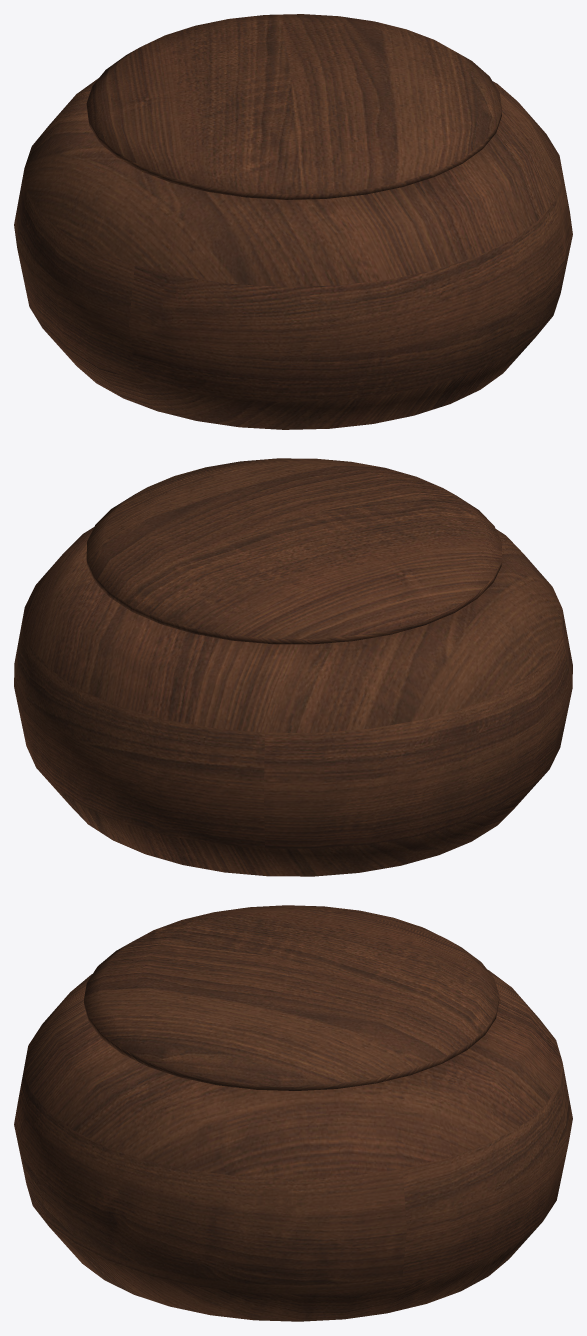
The model's file is bowl_closed.gltf.
The picture shows the model from 3 angles, top to bottom: view 1: azimuth 30°, elevation 25°; view 2: azimuth 150°, elevation 25°; view 3: azimuth 270°, elevation 25°; orthographic projection.
Visible parts, largest first — view 1: Cylinder.004; view 2: Cylinder.004; view 3: Cylinder.004.
Part boxes in pixels (x1,y1,x2,y2): Cylinder.004: [14, 14, 572, 429]; Cylinder.004: [14, 458, 572, 876]; Cylinder.004: [14, 905, 572, 1321].
Size of the model in its own units: 0.1503 by 0.0834 by 0.1503.
1 material, 1 textured.
